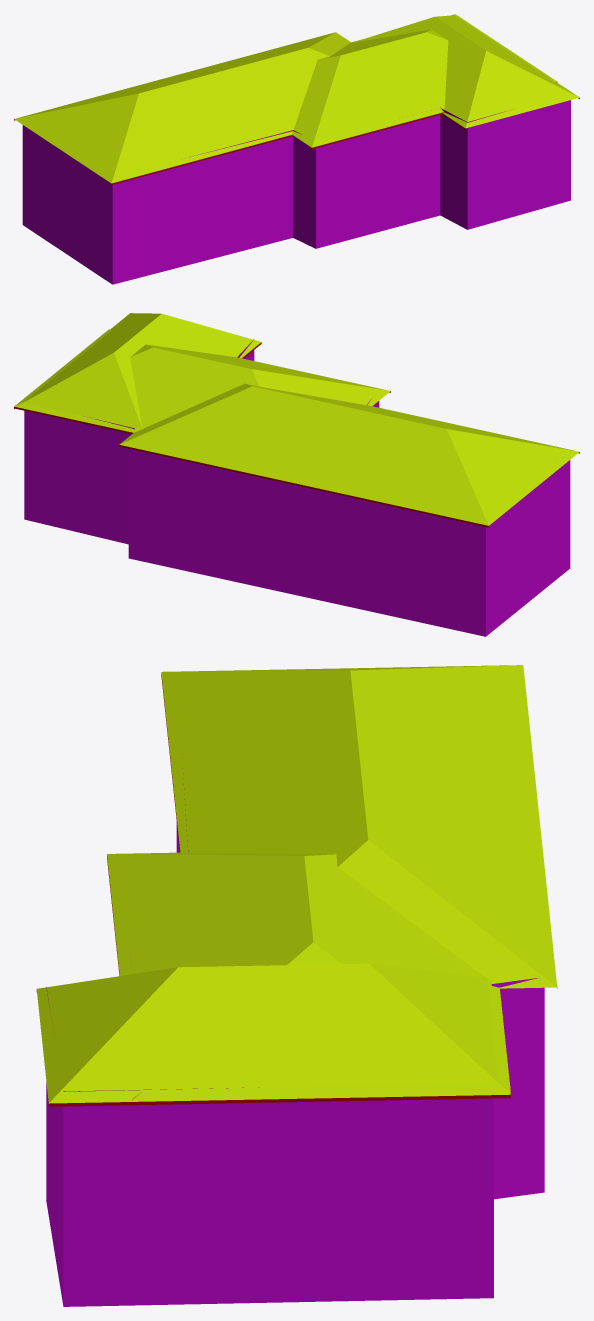
File: mtc_5.glb
3 renders of one model, top to bottom at view 1: azimuth 30°, elevation 25°; view 2: azimuth 150°, elevation 25°; view 3: azimuth 270°, elevation 25°, orthographic. The views are drawn at different scales.
Visible parts, largest first — view 1: mtc_5; view 2: mtc_5; view 3: mtc_5.
Part boxes in pixels (bbox=[...]): mtc_5: bbox=[14, 14, 579, 284]; mtc_5: bbox=[14, 313, 579, 636]; mtc_5: bbox=[36, 665, 557, 1306].
Bounding box in the file's own units: 33.69 × 10.25 × 16.98.
